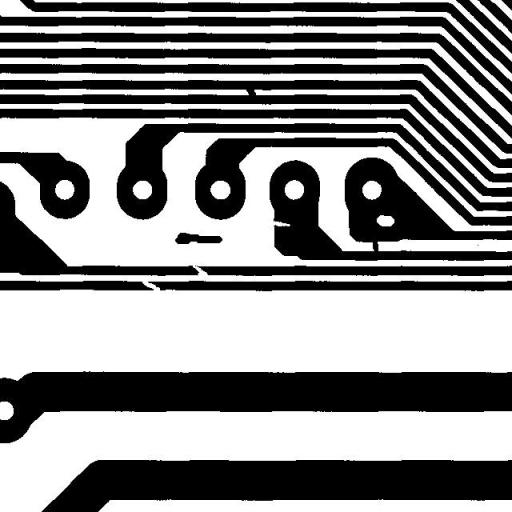copper: (167, 225, 230, 251)
mousebite: (263, 212, 298, 234)
open: (134, 272, 168, 298), (185, 257, 215, 283)
pin-hole: (368, 207, 402, 234)
short: (362, 227, 386, 260), (238, 77, 263, 105)
